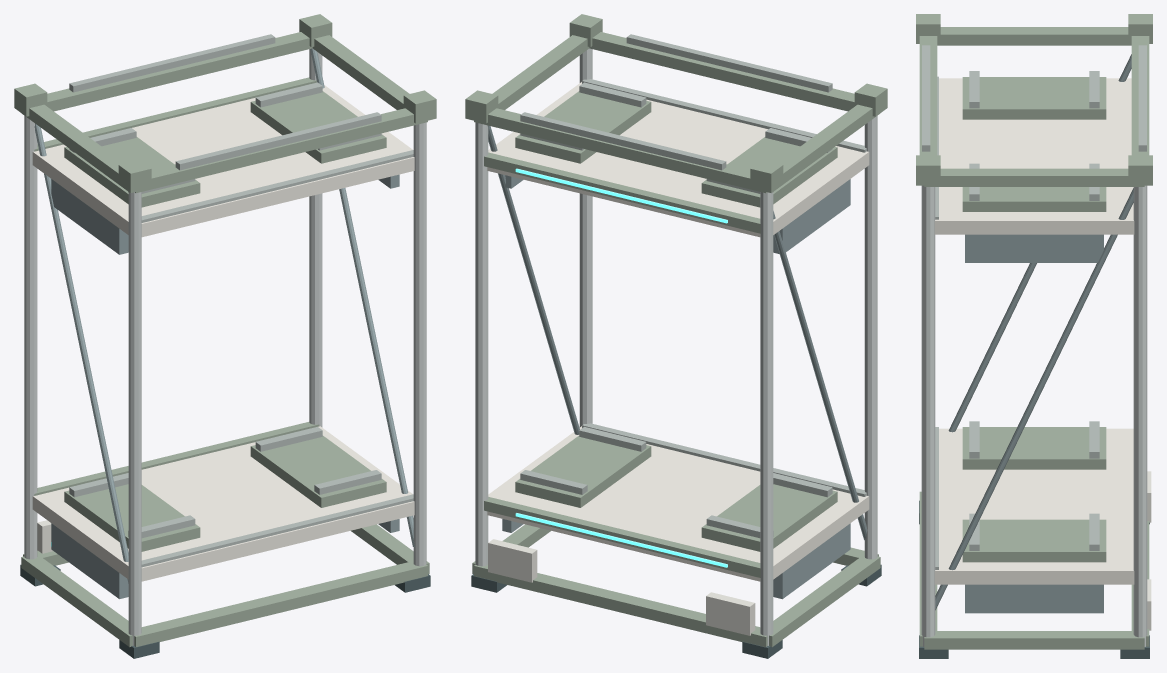
Rendered from s7-e0e1-rm01-mature-single.glb.
3 views of the same model, side by side, from view 1: azimuth 30°, elevation 25°; view 2: azimuth 150°, elevation 25°; view 3: azimuth 270°, elevation 25° (orthographic).
Parts seen in each view (by area): view 1: tray-load-deck-016, tray-load-deck-022, chrome-vertical-post-002, chrome-vertical-post-006, chrome-vertical-post-000, rack-long-rail-009, reinforced-empty-carrier-041, rack-long-rail-012, rack-long-rail-013, reinforced-empty-carrier-038, reinforced-empty-carrier-047, chrome-vertical-post-004 (+24 smaller); view 2: tray-load-deck-016, tray-load-deck-022, chrome-vertical-post-000, chrome-vertical-post-004, chrome-vertical-post-002, reinforced-empty-carrier-041, rack-long-rail-008, rack-long-rail-013, reinforced-empty-carrier-038, rack-long-rail-012, reinforced-empty-carrier-047, chrome-vertical-post-006 (+28 smaller); view 3: tray-load-deck-016, tray-load-deck-022, chrome-vertical-post-004, chrome-vertical-post-006, reinforced-empty-carrier-041, reinforced-empty-carrier-044, reinforced-empty-carrier-038, shelf-support-021, rack-side-rail-011, shelf-support-027, rack-side-rail-015, rack-side-rail-014 (+19 smaller).
Part boxes in pixels (x1,y1,x2,y2): tray-load-deck-016: (32,426,414,581); tray-load-deck-022: (32,85,414,237); chrome-vertical-post-002: (128,192,141,645); chrome-vertical-post-006: (413,122,426,566); chrome-vertical-post-000: (24,116,37,559); rack-long-rail-009: (134,561,427,646); reinforced-empty-carrier-041: (250,435,386,507); rack-long-rail-012: (47,32,312,111); rack-long-rail-013: (135,108,427,193); reinforced-empty-carrier-038: (64,484,200,551); reinforced-empty-carrier-047: (250,91,386,163); chrome-vertical-post-004: (309,49,322,427); tray-load-deck-016: (487,426,869,581); tray-load-deck-022: (487,82,869,237); chrome-vertical-post-000: (760,192,773,645); chrome-vertical-post-004: (475,122,488,566); chrome-vertical-post-002: (864,116,877,559); reinforced-empty-carrier-041: (515,435,651,507); rack-long-rail-008: (474,564,767,646); rack-long-rail-013: (589,32,854,111); reinforced-empty-carrier-038: (701,484,837,551); rack-long-rail-012: (474,108,766,193); reinforced-empty-carrier-047: (515,91,651,163); chrome-vertical-post-006: (579,48,592,427); tray-load-deck-016: (934,428,1134,584); tray-load-deck-022: (934,78,1134,234); chrome-vertical-post-004: (1133,185,1147,646); chrome-vertical-post-006: (921,185,935,646); reinforced-empty-carrier-041: (962,519,1106,562); reinforced-empty-carrier-044: (962,77,1106,119); reinforced-empty-carrier-038: (962,427,1106,469); shelf-support-021: (965,584,1103,613); rack-side-rail-011: (924,631,1144,649); shelf-support-027: (965,234,1103,262); rack-side-rail-015: (924,168,1144,186); rack-side-rail-014: (937,27,1131,45).
Bounding box in the file's own units: 1.32 × 2.01 × 0.87.
